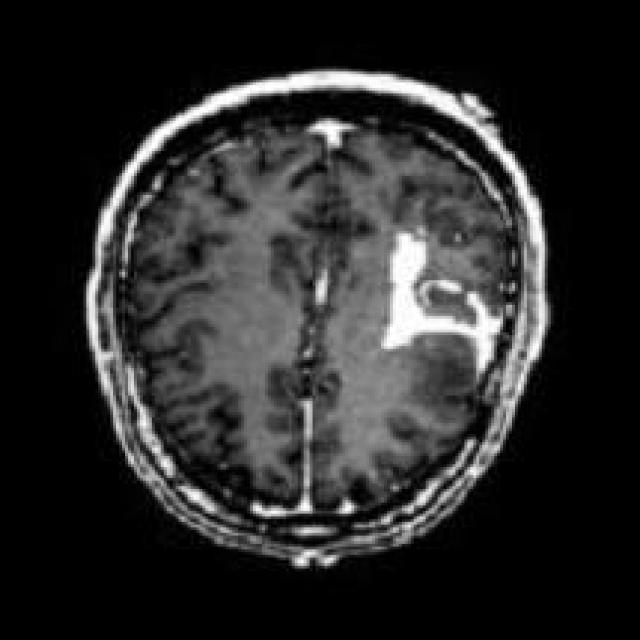brain tumor: (381, 236, 506, 376)
